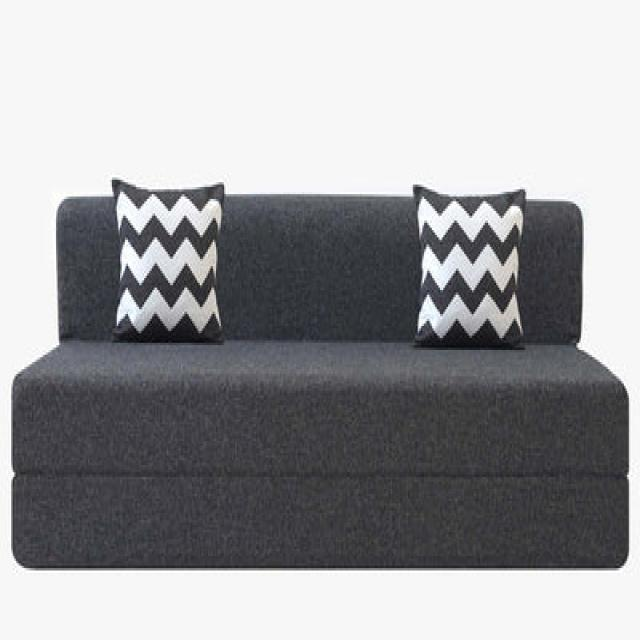sofa: (9, 184, 630, 568)
